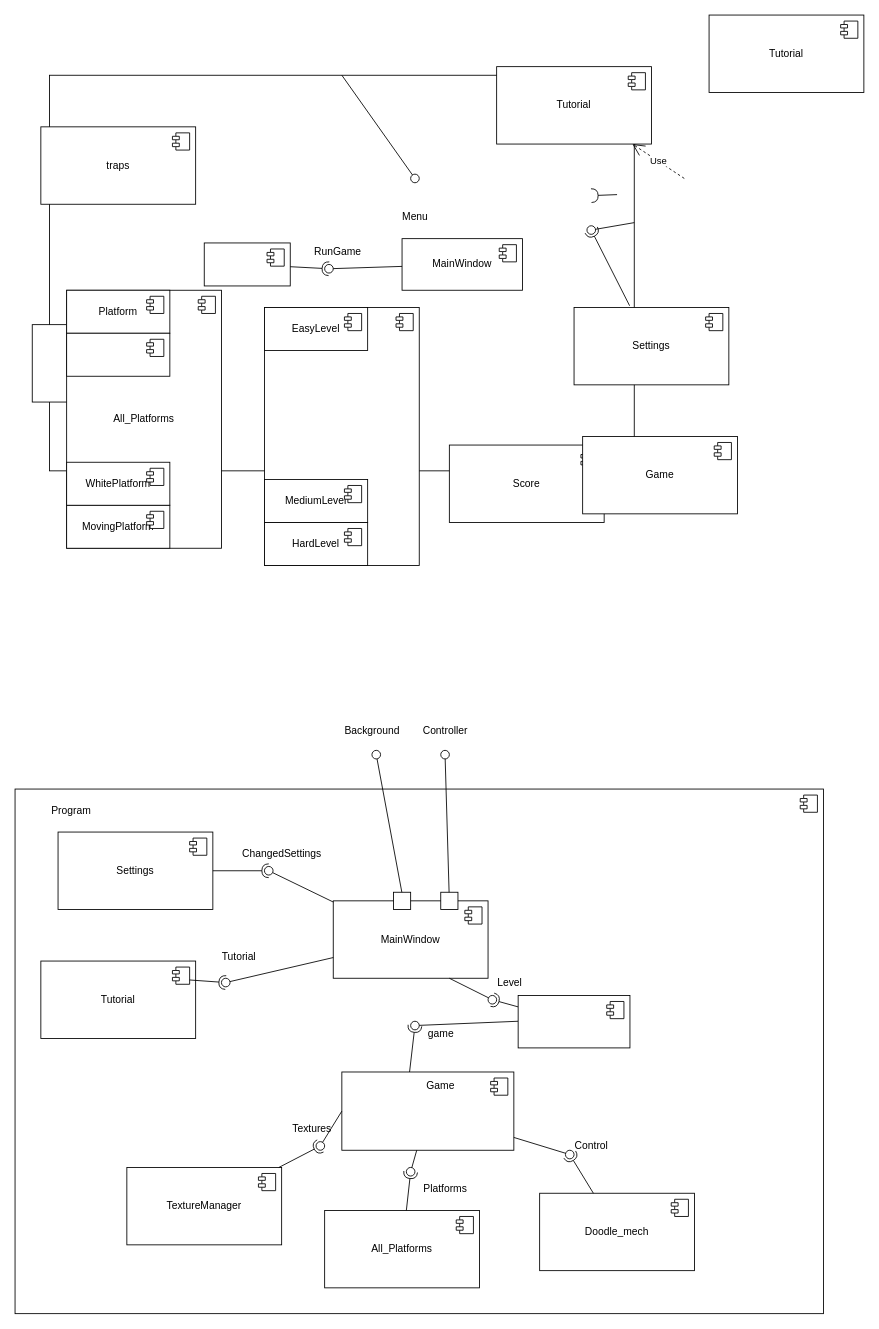
The diagram is 879 pixels wide and 1329 high, and some of its shapes have lost their labels. The box of each missing label's shape, as (x1, y1, x2, y2) in pixels:
All_levels: (264, 307, 419, 565)
CreateGame: (203, 242, 290, 286)
ExtremePlatform: (66, 332, 170, 376)
Levels: (517, 995, 630, 1048)
